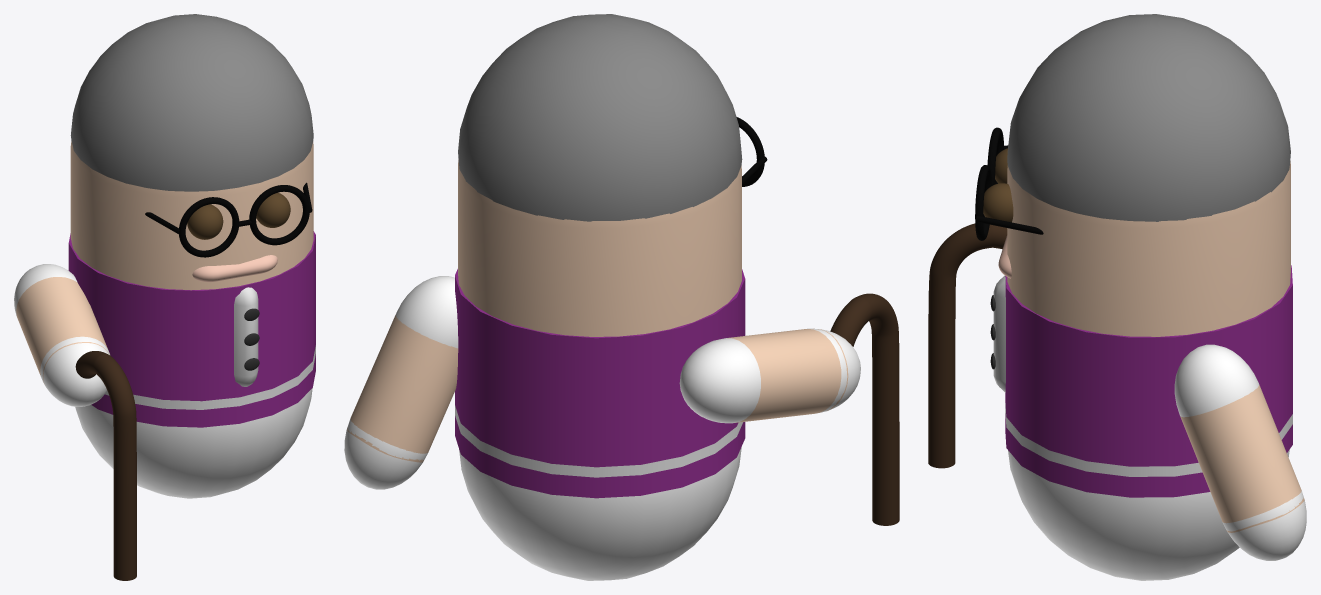
The model's file is elder.fbx.
3 renders of one model, left to right at view 1: azimuth 30°, elevation 25°; view 2: azimuth 150°, elevation 25°; view 3: azimuth 270°, elevation 25°, orthographic. The views are drawn at different scales.
Parts seen in each view (by area): view 1: Hair, Shirt, Body, Shorts, WalkingCane, LeftArm, PurpleStripe, LeftGlove, Glasses, Buttons, WhiteStripe, Mouth (+3 smaller); view 2: Hair, Shirt, Body, Shorts, RightArm, WalkingCane, LeftArm, PurpleStripe, LeftSleeve, RightGlove, WhiteStripe, RightSleeve (+2 smaller); view 3: Hair, Body, Shirt, Shorts, RightArm, WalkingCane, PurpleStripe, RightSleeve, RightGlove, WhiteStripe, Glasses, Buttons (+1 smaller).
Part boxes in pixels (box(x1,y1,x2,y2)): Hair: box(70, 14, 313, 191); Shirt: box(68, 231, 315, 401); Body: box(70, 141, 313, 290); Shorts: box(75, 388, 312, 498); WalkingCane: box(75, 351, 136, 580); LeftArm: box(16, 277, 109, 384); PurpleStripe: box(91, 354, 315, 427); LeftGlove: box(40, 336, 109, 406); Glasses: box(145, 182, 312, 257); Buttons: box(234, 287, 258, 386); WhiteStripe: box(105, 345, 315, 409); Mouth: box(192, 255, 277, 282); Hair: box(458, 14, 742, 221); Shirt: box(455, 269, 745, 467); Body: box(458, 159, 741, 336); Shorts: box(459, 447, 741, 580); RightArm: box(347, 315, 458, 462); WalkingCane: box(830, 293, 899, 525); LeftArm: box(727, 328, 848, 422); PurpleStripe: box(455, 416, 745, 498); LeftSleeve: box(679, 338, 760, 423); RightGlove: box(344, 419, 427, 489); WhiteStripe: box(455, 405, 743, 477); RightSleeve: box(395, 276, 458, 348); Hair: box(1007, 14, 1290, 221); Body: box(1007, 161, 1290, 336); Shirt: box(1005, 265, 1292, 466); Shorts: box(1008, 450, 1289, 580); RightArm: box(1180, 385, 1304, 532); WalkingCane: box(928, 223, 1007, 468); PurpleStripe: box(1005, 413, 1292, 497); RightSleeve: box(1174, 344, 1259, 417); RightGlove: box(1222, 491, 1306, 560); WhiteStripe: box(1005, 403, 1292, 476); Glasses: box(975, 127, 1043, 240); Buttons: box(993, 275, 1005, 392).
Size of the model in its own units: 164 by 210 by 133.
